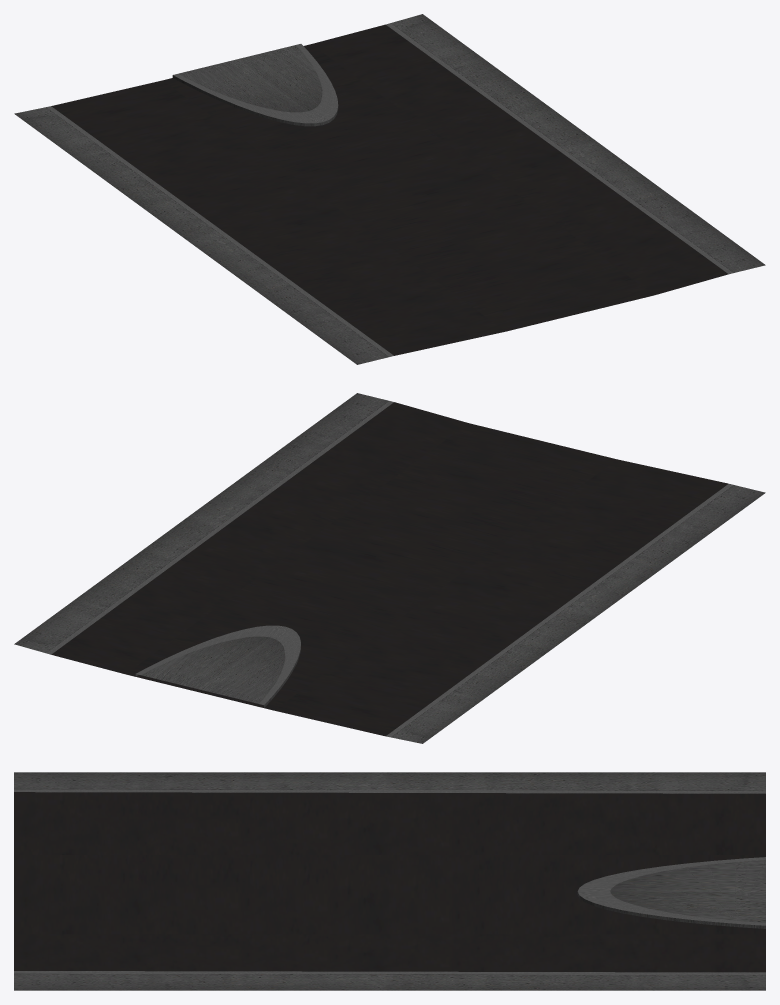
File: RJs_Road Pass 2+4+2 Basic Node_UT_lod.fbx
3 views of the same model, one above another, from view 1: azimuth 30°, elevation 25°; view 2: azimuth 150°, elevation 25°; view 3: azimuth 270°, elevation 25° (orthographic). The views are drawn at different scales.
Parts seen in each view (by area): view 1: plane_s_lod; view 2: plane_s_lod; view 3: plane_s_lod.
Part boxes in pixels (x1,y1,x2,y2): plane_s_lod: (14, 14, 765, 364); plane_s_lod: (14, 393, 765, 743); plane_s_lod: (14, 772, 765, 990).
Bounding box in the file's own units: 4400 × 6400 × 30.1.
